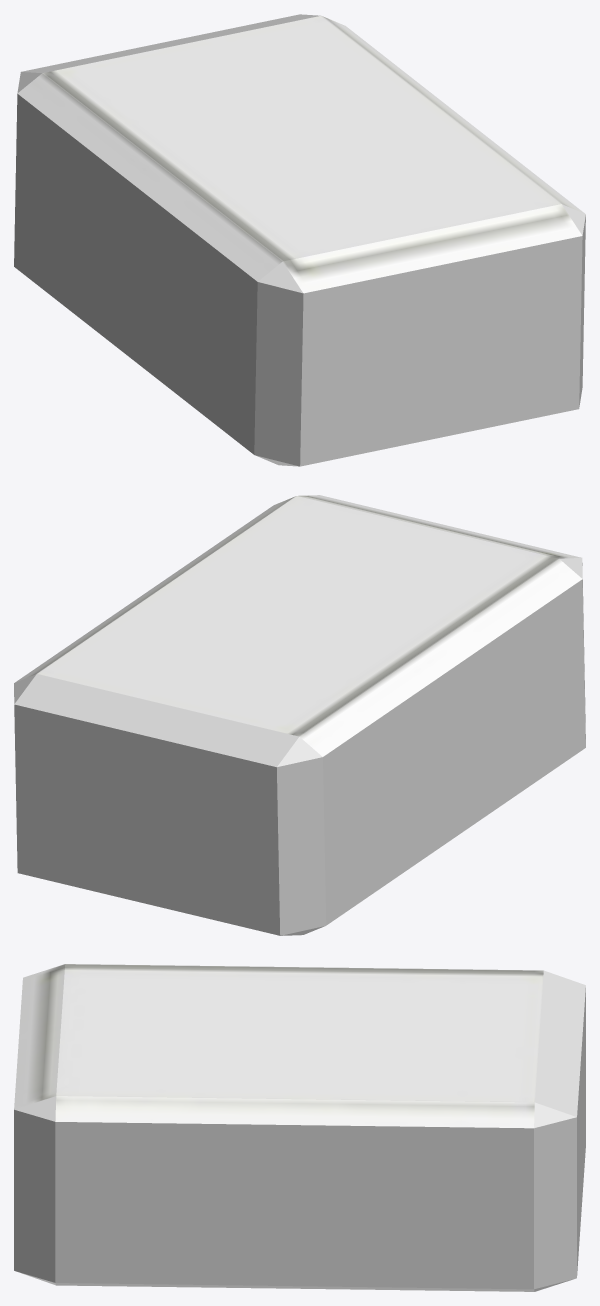
The model's file is haku.fbx.
3 renders of one model, top to bottom at view 1: azimuth 30°, elevation 25°; view 2: azimuth 150°, elevation 25°; view 3: azimuth 270°, elevation 25°, orthographic. The views are drawn at different scales.
Visible parts, largest first — view 1: haku; view 2: haku; view 3: haku.
Part boxes in pixels (x1,y1,x2,y2): haku: (14, 14, 585, 466); haku: (14, 495, 585, 935); haku: (14, 964, 585, 1291).
Bounding box in the file's own units: 52.53 × 30.93 × 81.24.
